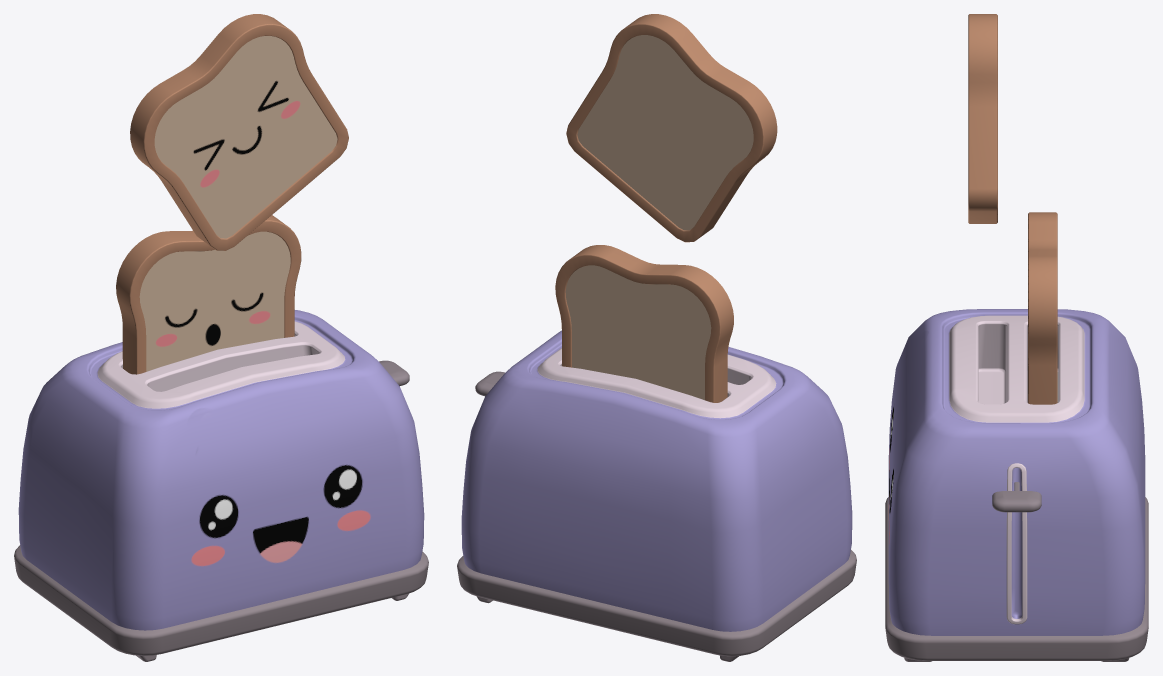
The model's file is cute_agent.glb.
3 renders of one model, left to right at view 1: azimuth 30°, elevation 25°; view 2: azimuth 150°, elevation 25°; view 3: azimuth 270°, elevation 25°, orthographic. The views are drawn at different scales.
Parts seen in each view (by area): view 1: Cute Toaster; view 2: Cute Toaster; view 3: Cute Toaster.
Part boxes in pixels (x1,y1,x2,y2): Cute Toaster: (14,14,428,661); Cute Toaster: (457,14,856,661); Cute Toaster: (885,14,1148,661).
Bounding box in the file's own units: 0.4471 × 0.734 × 0.2983.
1 material, 1 textured.
